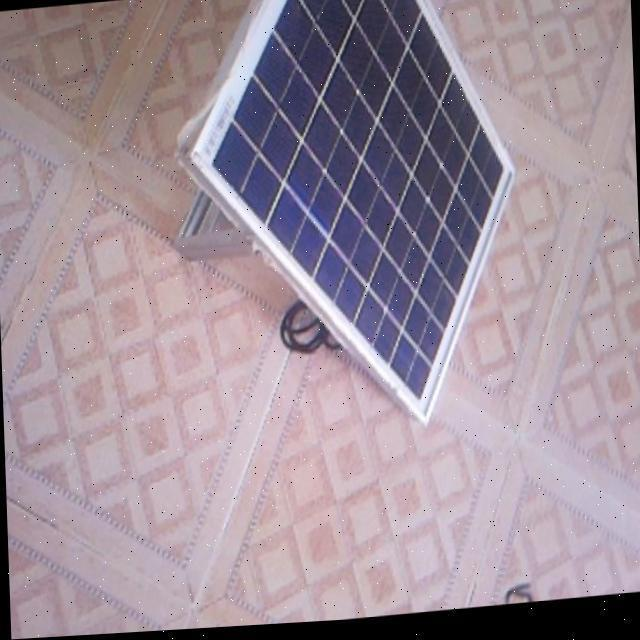Normal Solar Panel: (172, 0, 522, 449)
